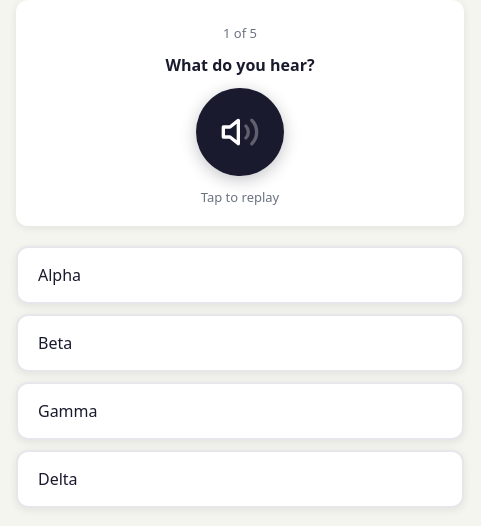
it: AudioMatch › answering with words (default) › correct answer advances after 1200ms
Click the button "Alpha" at (60, 275), box [16, 246, 464, 304]
Wait 1200 ms
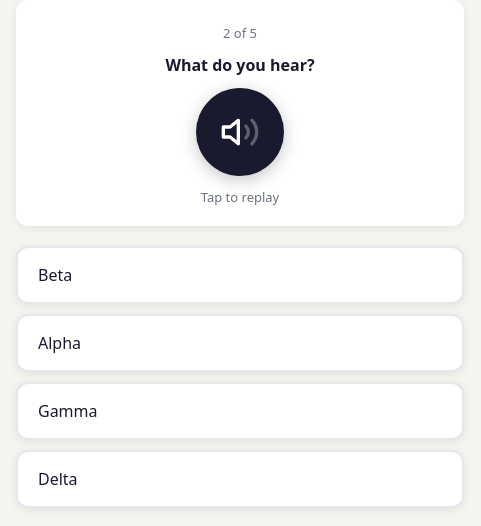
Check: the text "2 of 5" is shown, box [223, 24, 257, 42]
